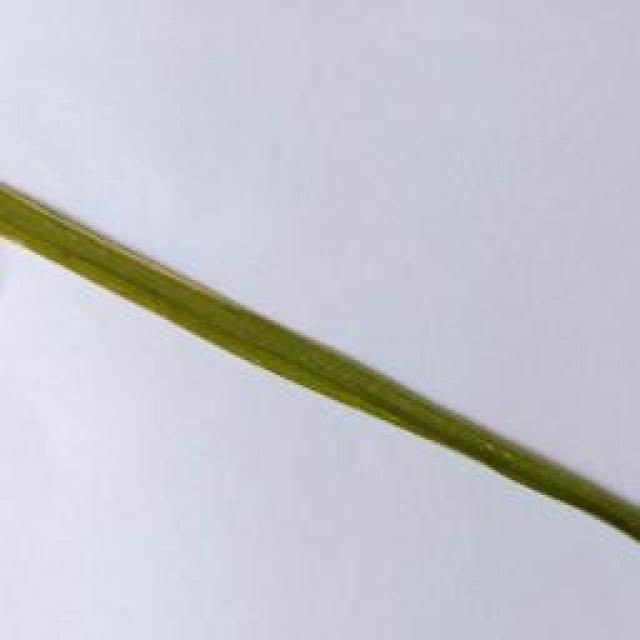Bacterial_Blight: (28, 196, 225, 311)
